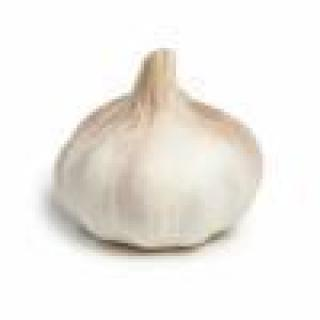Bawang Putih: (43, 46, 270, 254)
